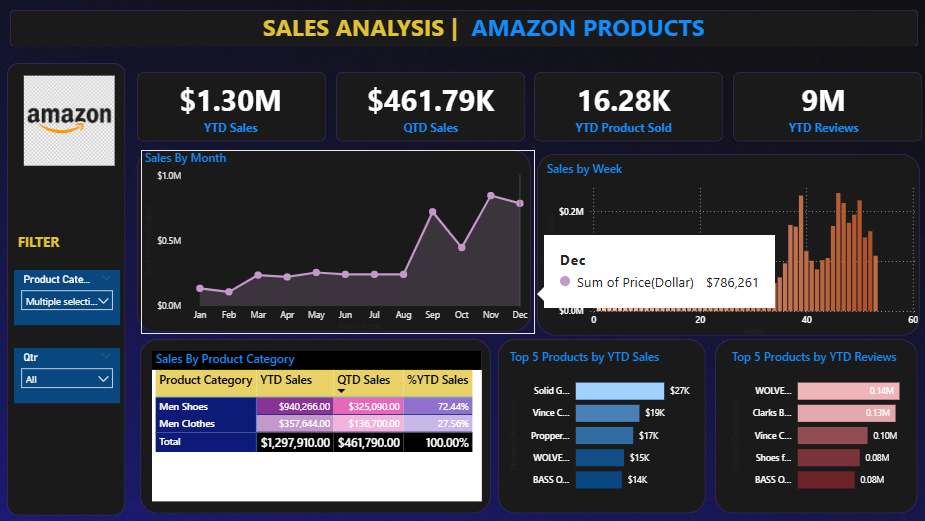

The page's visual inventory and layout, read from the dashboard file:
{"tool":"powerbi","page":{"name":"Page 1","canvas":[1280,720],"ordinal":0},"visuals":[{"type":"card","fields":{"Values":["Amazon_Data.YTD Sales"]},"box":[188.1,99.1,260.4,95.7],"z":0,"group":"g1"},{"type":"shape","box":[189.8,206.6,542,250],"z":0},{"type":"card","fields":{"Values":["Amazon_Data.YTD Product Sold"]},"box":[729,99.1,260.4,95.7],"z":1000,"group":"g1"},{"type":"shape","box":[463.6,99.1,260.4,95.7],"z":1000},{"type":"card","fields":{"Values":["Amazon_Data.YTD Reviews"]},"box":[1004.5,99.1,260.4,95.7],"z":2000,"group":"g1"},{"type":"shape","box":[15.1,13.4,1249.8,50.4],"z":2000},{"type":"card","fields":{"Values":["Amazon_Data.Total QTD"]},"box":[463.6,99.1,260.4,95.7],"z":3000,"group":"g1"},{"type":"textbox","box":[357.8,10.1,633.3,55.4],"z":3000},{"type":"shape","box":[735.7,99.1,260.4,95.7],"z":4000},{"type":"shape","box":[1009.6,99.1,260.4,95.7],"z":5000},{"type":"shape","box":[189.8,99.1,260.4,95.7],"z":6000},{"type":"group","id":"g1","title":"Group 1","box":[188.1,99.1,1076.7,95.7],"z":7000},{"type":"shape","box":[11.4,87.1,162.9,622.9],"z":8000},{"type":"areaChart","title":"Sales By Month","fields":{"Category":["Date Table.Month Name"],"Y":["Amazon_Data.Price(Dollar)"]},"box":[194.9,206.6,542.6,253.6],"z":9000},{"type":"shape","box":[740,211.4,527.1,250],"z":10000},{"type":"columnChart","title":"Sales by Week","fields":{"Category":["Date Table.Week"],"Y":["Amazon_Data.Price(Dollar)"]},"box":[748.6,221.4,521.4,245.7],"z":11000},{"type":"shape","box":[194.3,467.1,482.9,240],"z":12000},{"type":"pivotTable","title":"Sales By Product Category","fields":{"Rows":["Amazon_Data.Product Category"],"Values":["Amazon_Data.YTD Sales1","Amazon_Data.QTD Sales","Amazon_Data.YTD Sales"]},"box":[210,482.9,454.3,207.1],"z":13000},{"type":"shape","box":[687.1,467.1,285.7,240],"z":14000},{"type":"shape","box":[985.7,467.1,278.6,240],"z":15000},{"type":"barChart","title":"Top 5 Products by YTD Sales ","fields":{"Category":["Amazon_Data.Product Description"],"Y":["Amazon_Data.YTD Sales"]},"box":[697.1,480,264.3,210],"z":16000},{"type":"barChart","title":"Top 5 Products by YTD Reviews","fields":{"Category":["Amazon_Data.Product Description"],"Y":["Amazon_Data.YTD Reviews"]},"box":[1002.9,480,264.3,210],"z":17000},{"type":"slicer","fields":{"Values":["Amazon_Data.Product Category"]},"box":[20,371.4,145.7,75.7],"z":18000},{"type":"slicer","fields":{"Values":["Date Table.Qtr"]},"box":[20,478.6,145.7,75.7],"z":19000},{"type":"image","box":[25.7,98.6,140,134.3],"z":20000},{"type":"textbox","box":[20,315.7,122.9,41.4],"z":21000}]}

Visuals, with their boxes in screenshot pixels (x1, y1, x2, y2), scaled from the page's 1280x720 canvas onto the 925x521 screenshot:
card - Amazon_Data.YTD Sales: [136,72,324,141]
shape: [137,149,529,330]
card - Amazon_Data.YTD Product Sold: [527,72,715,141]
shape: [335,72,523,141]
card - Amazon_Data.YTD Reviews: [726,72,914,141]
shape: [11,10,914,46]
card - Amazon_Data.Total QTD: [335,72,523,141]
textbox: [259,7,716,47]
shape: [532,72,720,141]
shape: [730,72,918,141]
shape: [137,72,325,141]
"Group 1" group: [136,72,914,141]
shape: [8,63,126,514]
"Sales By Month" areaChart: [141,149,533,333]
shape: [535,153,916,334]
"Sales by Week" columnChart: [541,160,918,338]
shape: [140,338,489,512]
"Sales By Product Category" pivotTable: [152,349,480,499]
shape: [497,338,703,512]
shape: [712,338,914,512]
"Top 5 Products by YTD Sales " barChart: [504,347,695,499]
"Top 5 Products by YTD Reviews" barChart: [725,347,916,499]
slicer - Amazon_Data.Product Category: [14,269,120,324]
slicer - Date Table.Qtr: [14,346,120,401]
image: [19,71,120,169]
textbox: [14,228,103,258]
